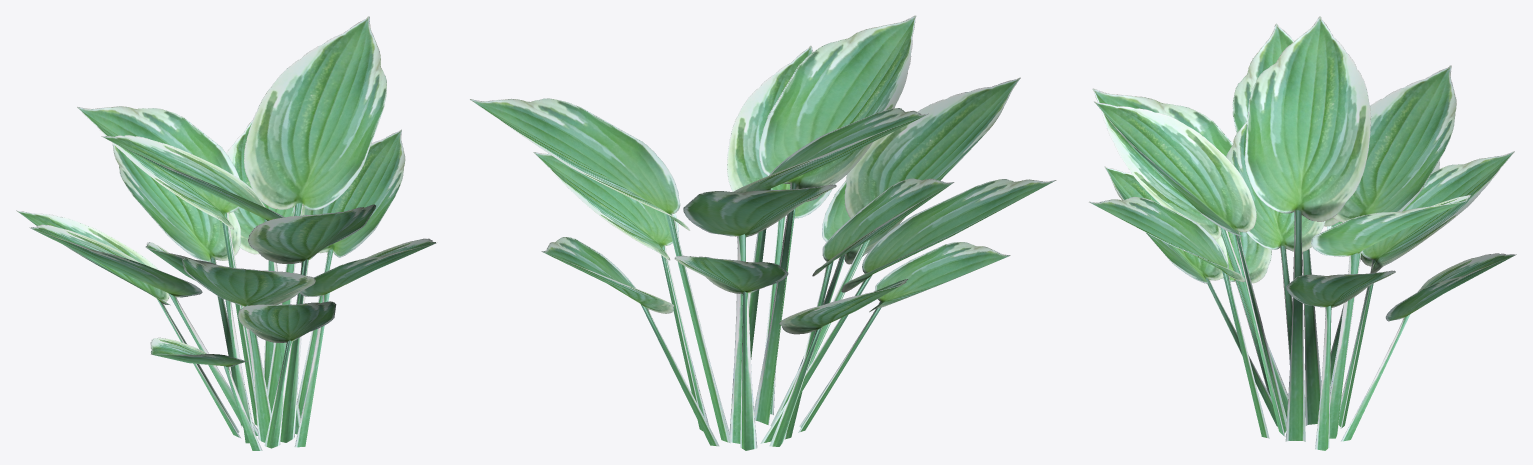
The model's file is plant_small_wg_03U.fbx.
The picture shows the model from 3 angles, left to right: view 1: azimuth 30°, elevation 25°; view 2: azimuth 150°, elevation 25°; view 3: azimuth 270°, elevation 25°; orthographic projection. The views are drawn at different scales.
Parts seen in each view (by area): view 1: plant_small_wg_03U; view 2: plant_small_wg_03U; view 3: plant_small_wg_03U.
Part boxes in pixels (x1,y1,x2,y2): plant_small_wg_03U: (16,16,436,450); plant_small_wg_03U: (470,15,1056,450); plant_small_wg_03U: (1089,16,1516,450).
Size of the model in its own units: 74.94 by 54.56 by 63.56.
